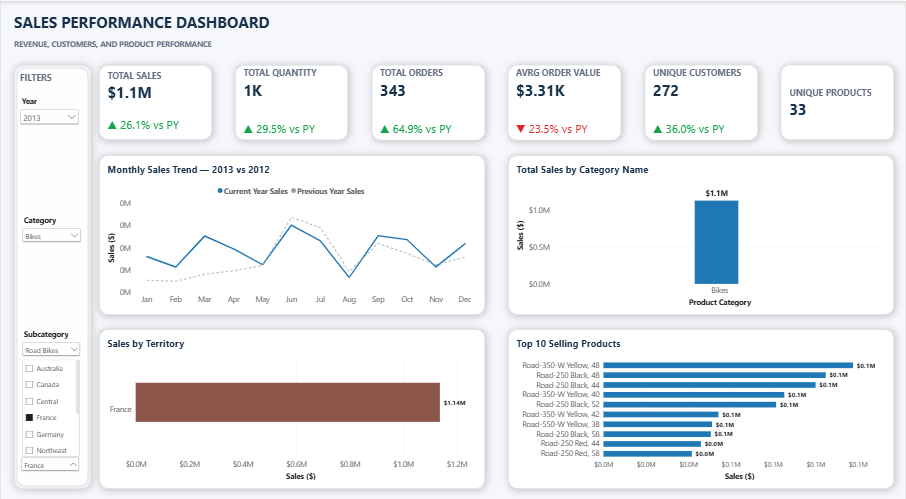

The page's visual inventory and layout, read from the dashboard file:
{"tool":"powerbi","page":{"name":"Page 1","canvas":[1920,1080],"ordinal":0},"visuals":[{"type":"shape","title":"FILTERS","box":[27.6,134,174.4,912.2],"z":0},{"type":"cardVisual","title":"Total Sales","fields":{"Data":["FactSales.Total Sales","FactSales.Sales YoY Indicator"]},"box":[223.3,134,235,150],"z":1000},{"type":"cardVisual","title":"TOTAL QUANTITY","fields":{"Data":["FactSales.Total Quantity","FactSales.Quantity YoY Indicator"]},"box":[511.1,135.4,235,150],"z":2000},{"type":"cardVisual","fields":{"Data":["FactSales.Total Orders","FactSales.Orders YoY Indicator"]},"box":[799,135.4,235,150],"z":3000},{"type":"cardVisual","fields":{"Data":["FactSales.Average Order Value","FactSales.AOV YoY Indicator"]},"box":[1086.9,135.4,235,150],"z":4000},{"type":"cardVisual","fields":{"Data":["FactSales.Distinct Customers","FactSales.Customers YoY Indicator"]},"box":[1374.8,135.4,235,150],"z":5000},{"type":"cardVisual","fields":{"Data":["FactSales.Distinct Products"]},"box":[1662.7,136.1,235,150],"z":6000},{"type":"lineChart","fields":{"Category":["DimDate.Month Short Name"],"Y":["FactSales.Current Year Sales","FactSales.Previous Year Sales"]},"box":[223.3,308.3,812.2,359],"z":7000},{"type":"slicer","fields":{"Values":["DimProduct.CategoryName"]},"box":[46.8,446.8,134,85],"z":8000},{"type":"slicer","fields":{"Values":["DimProduct.SubcategoryName"]},"box":[47.4,650.2,133.3,86.2],"z":9000},{"type":"slicer","fields":{"Values":["DimTerritory.Name"]},"box":[44.7,854.8,133.3,80],"z":10000},{"type":"clusteredBarChart","title":"Total Sales by Territory","fields":{"Category":["DimTerritory.TerritoryName"],"Y":["FactSales.Total Sales"]},"box":[223.3,686.8,812.2,359.3],"z":11000},{"type":"clusteredBarChart","title":"Total Sales by Product","fields":{"Category":["DimProduct.Name"],"Y":["FactSales.Total Sales"]},"box":[1086.5,686.8,812.2,359.3],"z":12000},{"type":"textbox","box":[41,14.4,594.9,61.5],"z":13000},{"type":"textbox","box":[41,75.9,547.7,59.5],"z":14000},{"type":"clusteredColumnChart","title":"Total Sales by Category ","fields":{"Category":["DimProduct.CategoryName"],"Y":["FactSales.Total Sales"]},"box":[1086.5,308.3,812.2,359],"z":15000},{"type":"slicer","fields":{"Values":["DimDate.Year"]},"box":[42.5,240.3,133.3,88.2],"z":16000},{"type":"textbox","box":[40.4,159.5,134,48.9],"z":17000}]}

Visuals, with their boxes in screenshot pixels (x1, y1, x2, y2), scaled from the page's 1920x1080 canvas onto the 906x499 screenshot:
"FILTERS" shape: bbox=(13, 62, 95, 483)
"Total Sales" cardVisual: bbox=(105, 62, 216, 131)
"TOTAL QUANTITY" cardVisual: bbox=(241, 63, 352, 132)
cardVisual - FactSales.Total Orders x FactSales.Orders YoY Indicator: bbox=(377, 63, 488, 132)
cardVisual - FactSales.Average Order Value x FactSales.AOV YoY Indicator: bbox=(513, 63, 624, 132)
cardVisual - FactSales.Distinct Customers x FactSales.Customers YoY Indicator: bbox=(649, 63, 760, 132)
cardVisual - FactSales.Distinct Products: bbox=(785, 63, 895, 132)
lineChart - DimDate.Month Short Name x FactSales.Current Year Sales: bbox=(105, 142, 489, 308)
slicer - DimProduct.CategoryName: bbox=(22, 206, 85, 246)
slicer - DimProduct.SubcategoryName: bbox=(22, 300, 85, 340)
slicer - DimTerritory.Name: bbox=(21, 395, 84, 432)
"Total Sales by Territory" clusteredBarChart: bbox=(105, 317, 489, 483)
"Total Sales by Product" clusteredBarChart: bbox=(513, 317, 896, 483)
textbox: bbox=(19, 7, 300, 35)
textbox: bbox=(19, 35, 278, 63)
"Total Sales by Category " clusteredColumnChart: bbox=(513, 142, 896, 308)
slicer - DimDate.Year: bbox=(20, 111, 83, 152)
textbox: bbox=(19, 74, 82, 96)
